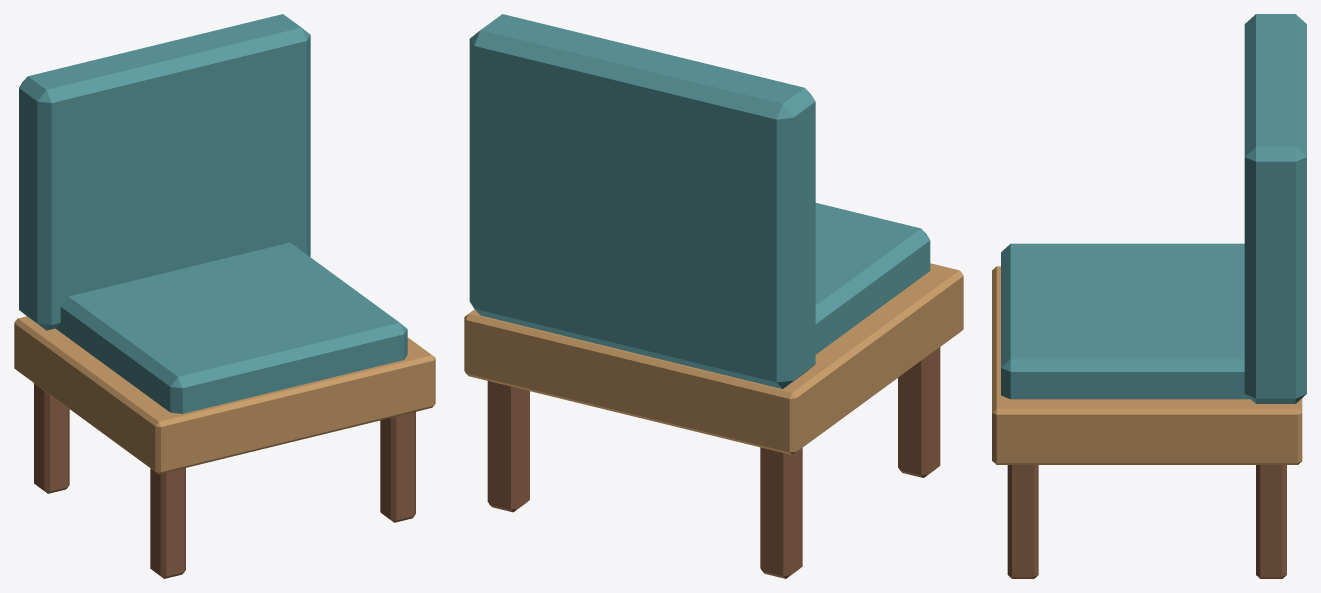
File: SM_CH_Paper_Chair.fbx
3 renders of one model, left to right at view 1: azimuth 30°, elevation 25°; view 2: azimuth 150°, elevation 25°; view 3: azimuth 270°, elevation 25°, orthographic. The views are drawn at different scales.
Parts seen in each view (by area): view 1: SM_CH_Paper_Chair; view 2: SM_CH_Paper_Chair; view 3: SM_CH_Paper_Chair.
Part boxes in pixels (box(x1,y1,x2,y2)): SM_CH_Paper_Chair: box(14, 14, 435, 578); SM_CH_Paper_Chair: box(464, 14, 963, 578); SM_CH_Paper_Chair: box(992, 14, 1306, 578).
Size of the model in its own units: 7800 by 7100 by 10800.
